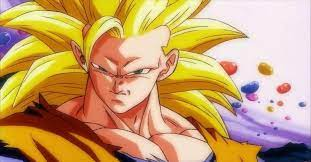Songoku: (76, 14, 175, 113)
